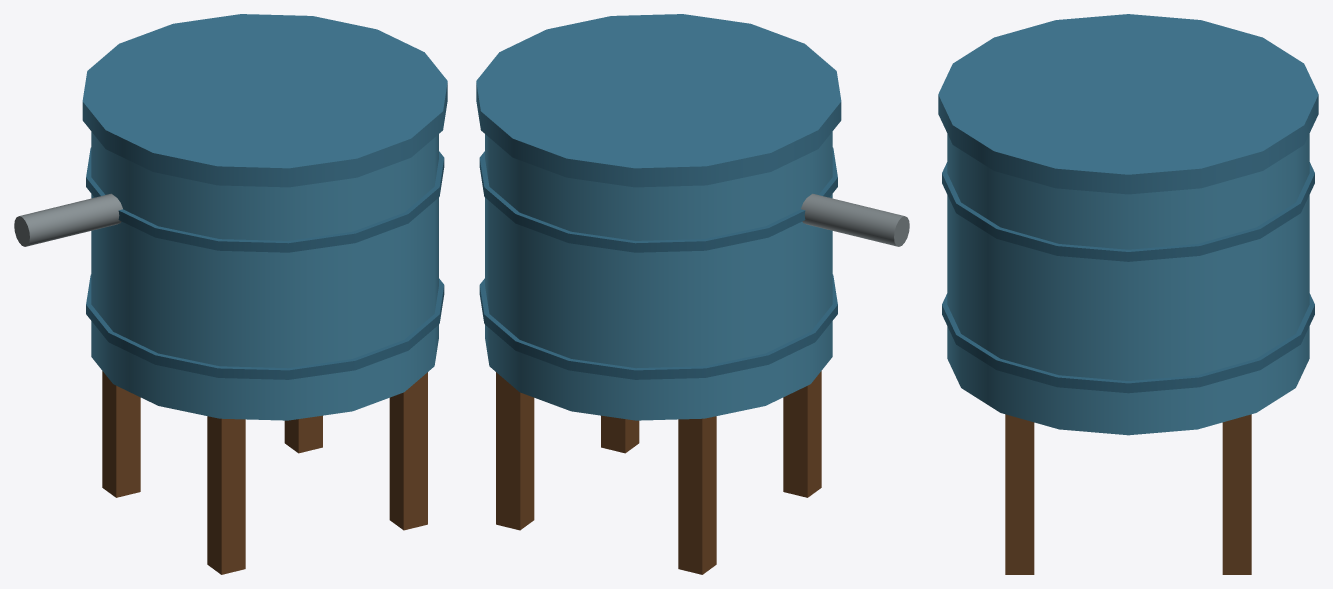
The model's file is waterTank.glb.
The picture shows the model from 3 angles, left to right: view 1: azimuth 30°, elevation 25°; view 2: azimuth 150°, elevation 25°; view 3: azimuth 270°, elevation 25°; orthographic projection. The views are drawn at different scales.
Parts seen in each view (by area): view 1: farm_waterTank; view 2: farm_waterTank; view 3: farm_waterTank.
Part boxes in pixels (left/top/right/bottom): farm_waterTank: left=14, top=14, right=447, bottom=574; farm_waterTank: left=476, top=14, right=909, bottom=574; farm_waterTank: left=938, top=14, right=1318, bottom=574.
Bounding box in the file's own units: 2.65 × 2.61 × 2.1.
